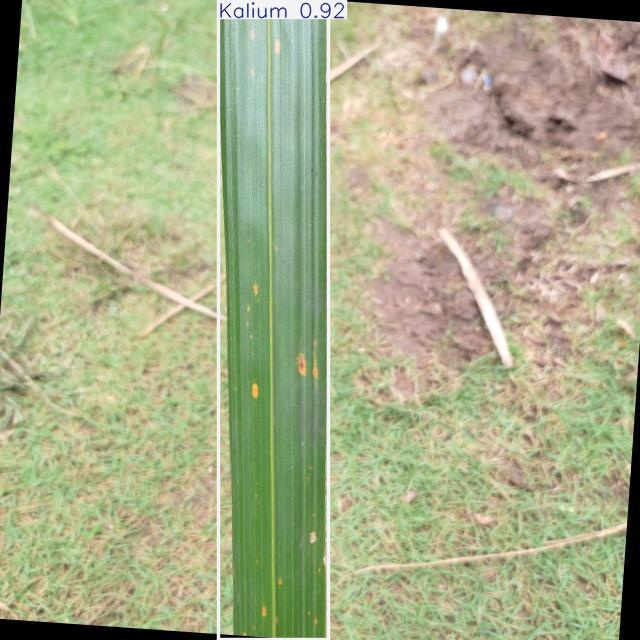Kalium: (218, 0, 329, 640)
